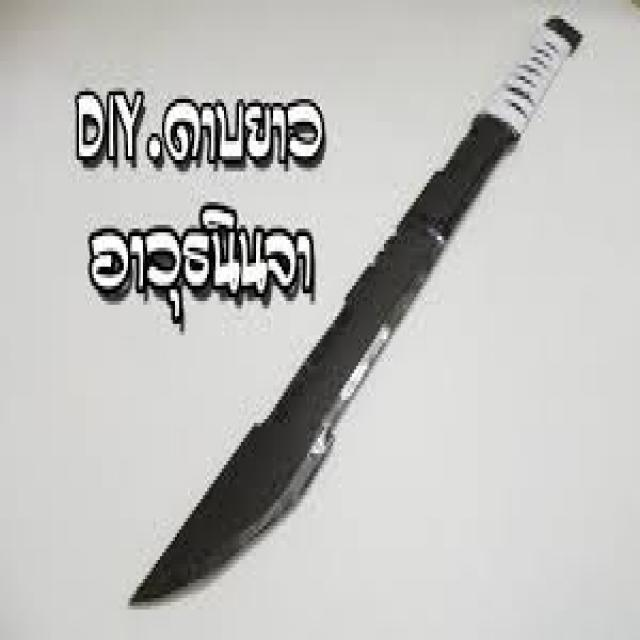long sword: (123, 14, 588, 588)
